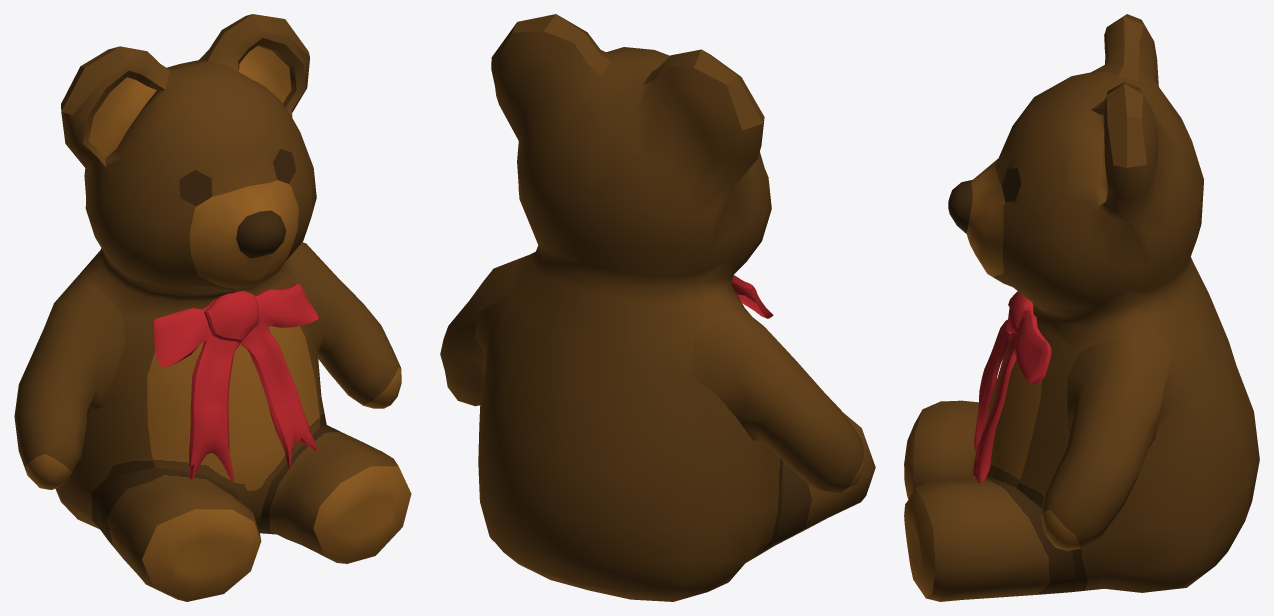
File: Powerup_Bernard_Bear.FBX
3 views of the same model, side by side, from view 1: azimuth 30°, elevation 25°; view 2: azimuth 150°, elevation 25°; view 3: azimuth 270°, elevation 25° (orthographic). The views are drawn at different scales.
Visible parts, largest first — view 1: Powerup_Bernard_Bear; view 2: Powerup_Bernard_Bear; view 3: Powerup_Bernard_Bear.
Part boxes in pixels (box(x1,y1,x2,y2)): Powerup_Bernard_Bear: box(14, 14, 411, 601); Powerup_Bernard_Bear: box(440, 14, 875, 601); Powerup_Bernard_Bear: box(904, 14, 1259, 601).
Bounding box in the file's own units: 36.65 × 46.17 × 29.12.
